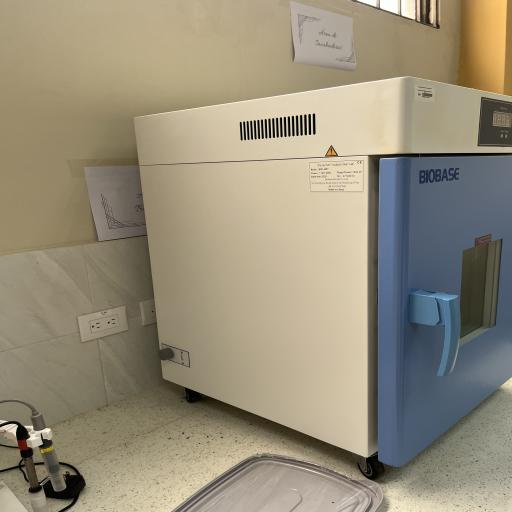Horno_Secado_Biobase: (116, 71, 512, 485)
